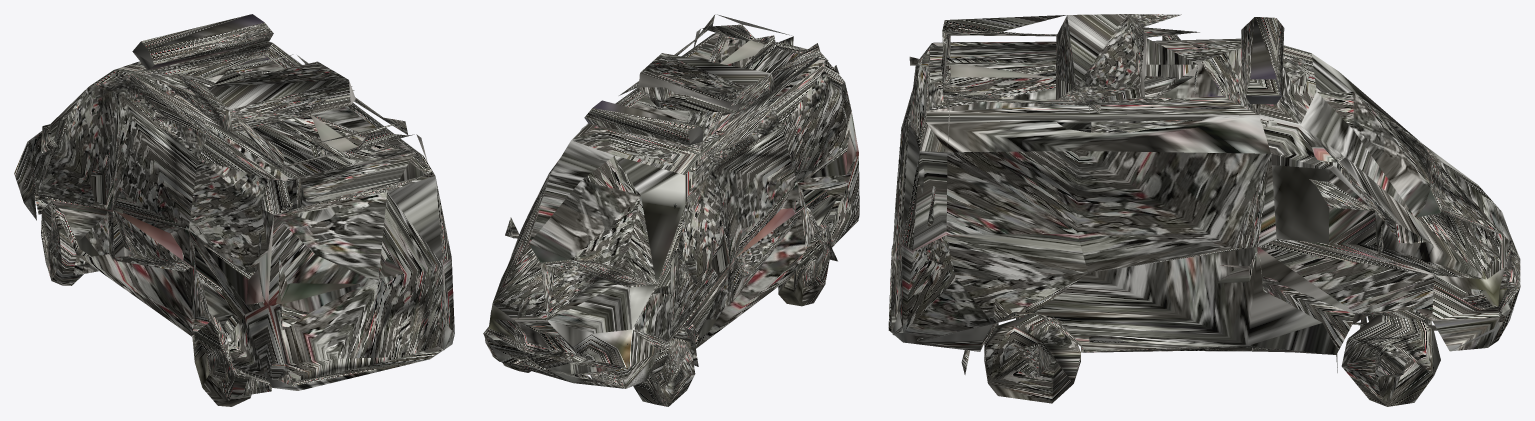
Rendered from gazelle_ambulance_17k.glb.
3 views of the same model, side by side, from view 1: azimuth 30°, elevation 25°; view 2: azimuth 150°, elevation 25°; view 3: azimuth 270°, elevation 25° (orthographic). The views are drawn at different scales.
Visible parts, largest first — view 1: output_unwrapped; view 2: output_unwrapped; view 3: output_unwrapped.
Part boxes in pixels (<box>): output_unwrapped: <box>14,14,454,406</box>; output_unwrapped: <box>483,14,859,406</box>; output_unwrapped: <box>888,14,1520,406</box>.
Bounding box in the file's own units: 2.58 × 3.04 × 5.57.
1 material, 1 textured.
